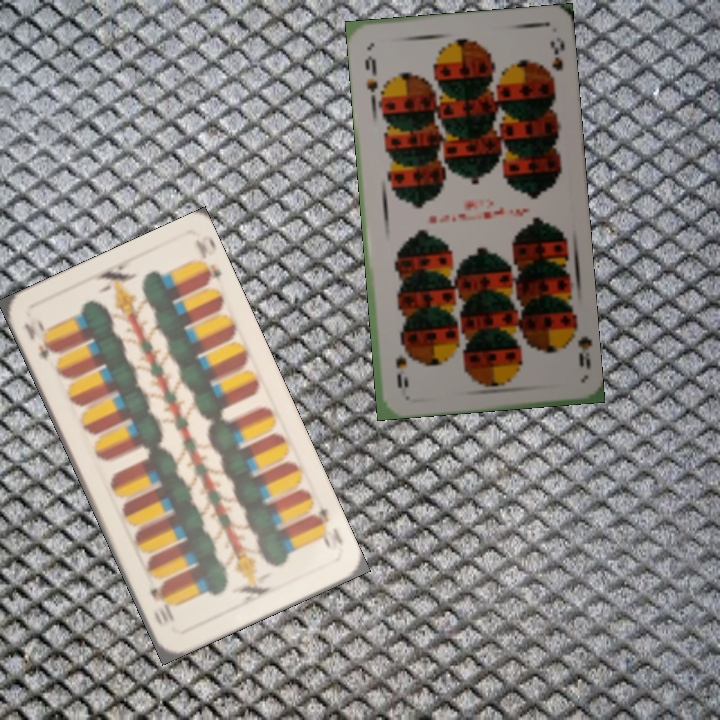E10: (307, 501, 346, 553), (20, 316, 58, 364)
S9: (563, 319, 593, 372), (361, 51, 380, 95)
